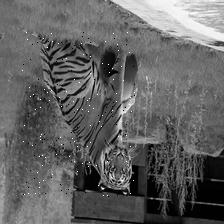tiger: (21, 31, 134, 198)
